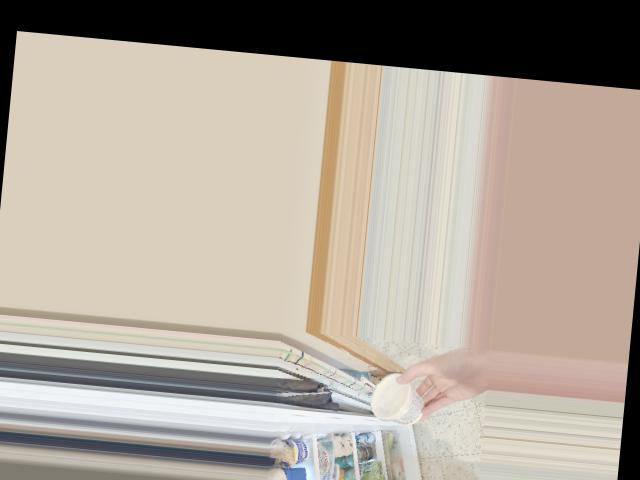cotage: (370, 365, 431, 425)
